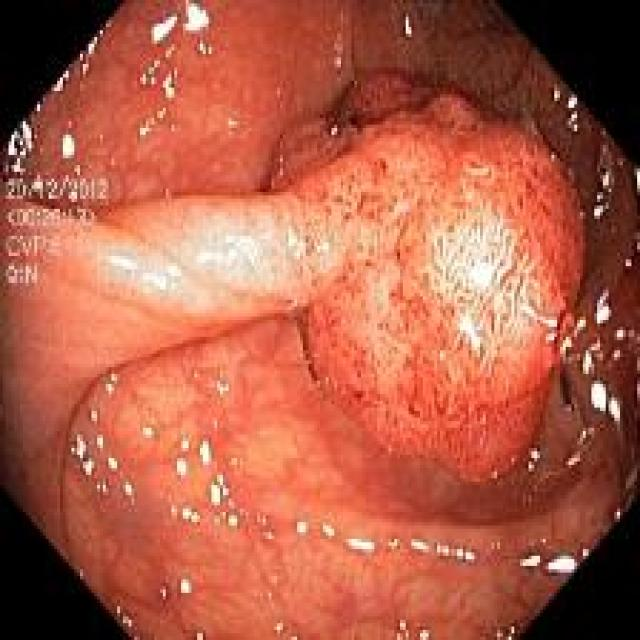Polyps: (270, 72, 584, 481)
